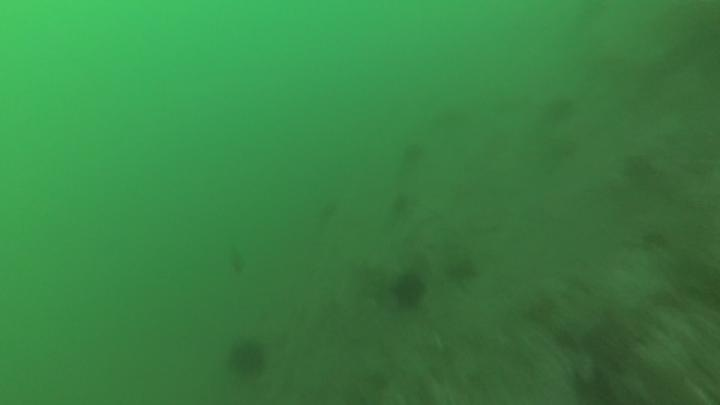echinus: (225, 335, 269, 381), (388, 269, 429, 312), (620, 151, 660, 188), (540, 93, 579, 128), (442, 254, 482, 288), (399, 139, 428, 168)
